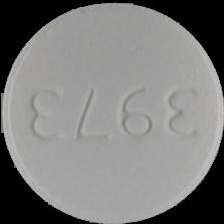68788-9536: (0, 0, 224, 224)
